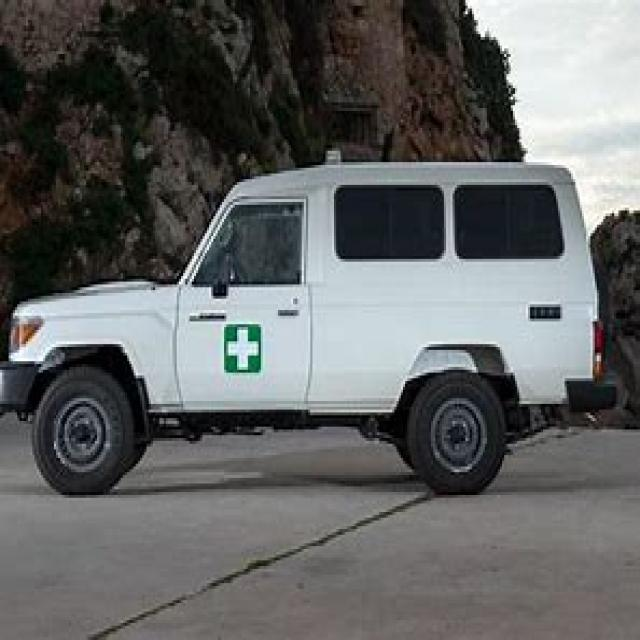light_vehicle: (8, 150, 606, 500)
